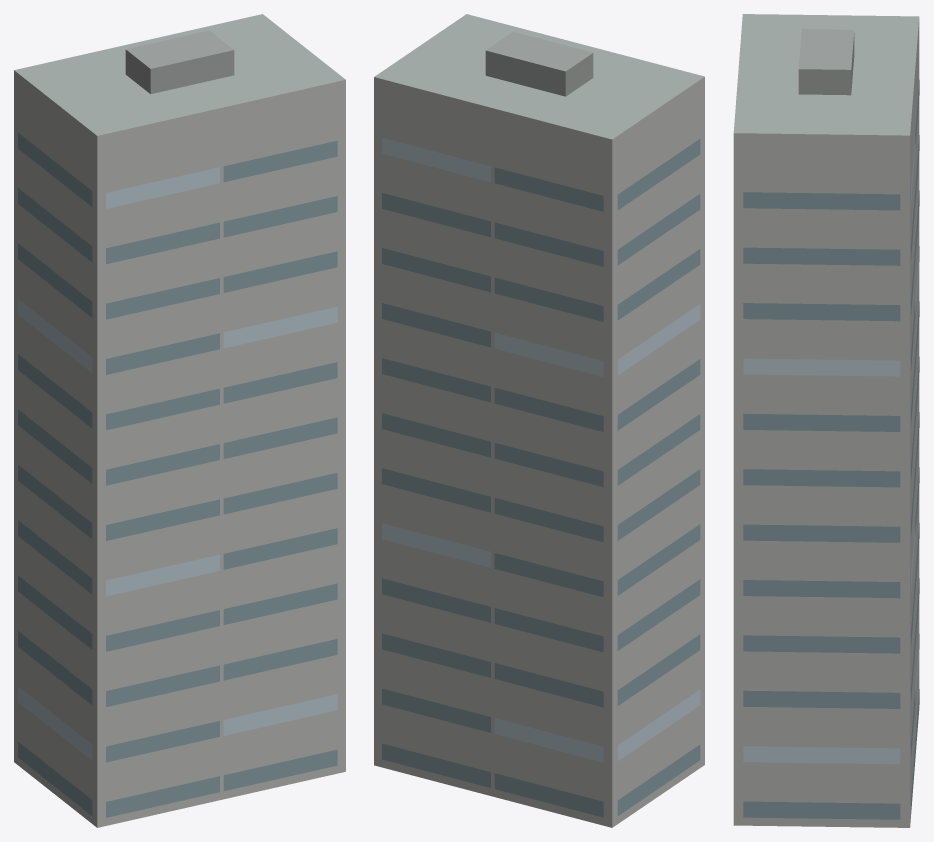
The model's file is fallback-sk-bukhansan-city-112.glb.
The picture shows the model from 3 angles, left to right: view 1: azimuth 30°, elevation 25°; view 2: azimuth 150°, elevation 25°; view 3: azimuth 270°, elevation 25°; orthographic projection.
Visible parts, largest first — view 1: fallback-sk-bukhansan-city-112; view 2: fallback-sk-bukhansan-city-112; view 3: fallback-sk-bukhansan-city-112.
Part boxes in pixels (x1=…): fallback-sk-bukhansan-city-112: x1=14, y1=14, x2=345, y2=827; fallback-sk-bukhansan-city-112: x1=374, y1=14, x2=704, y2=827; fallback-sk-bukhansan-city-112: x1=733, y1=14, x2=919, y2=827.
Size of the model in its own units: 24.74 by 68 by 15.98.
